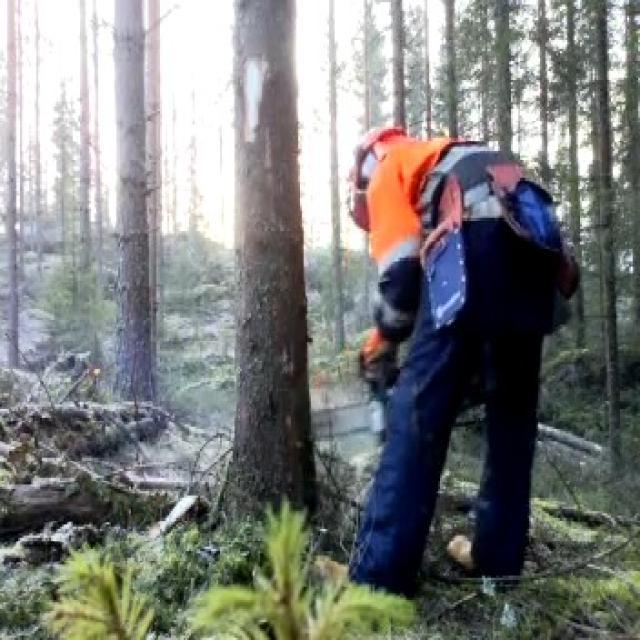Chainsaw: (292, 361, 433, 452)
